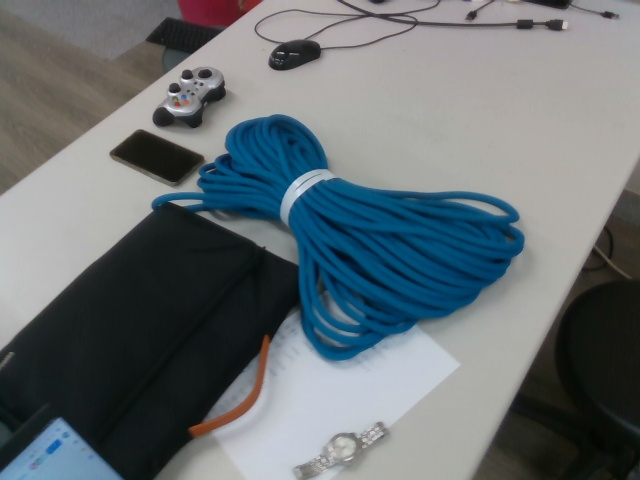rope: (151, 113, 528, 365)
